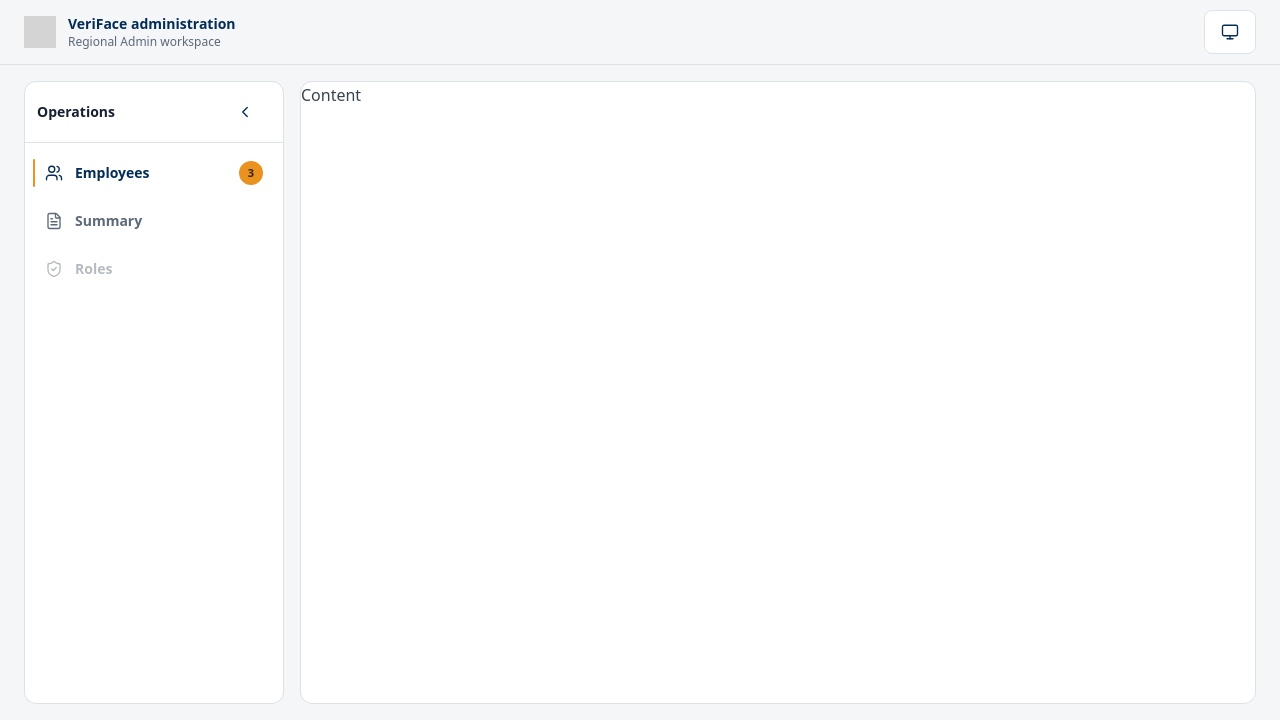
Test case: Admin and HR shell › persists desktop navigation collapse
This screenshot has width=1280, height=720.
Click the button named "Collapse navigation". click: (245, 112)
box: x1=219 y1=90 x2=271 y2=134
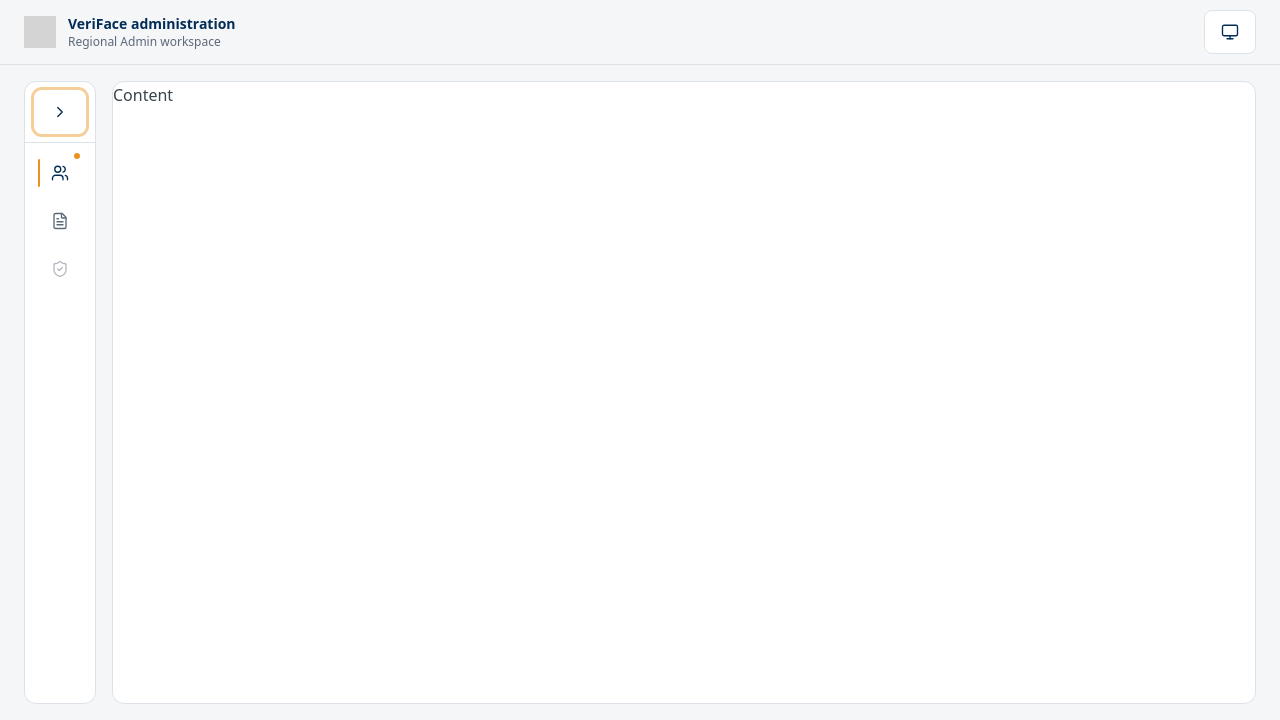
Now the button named "Expand navigation" is shown, box x1=34 y1=90 x2=86 y2=134
